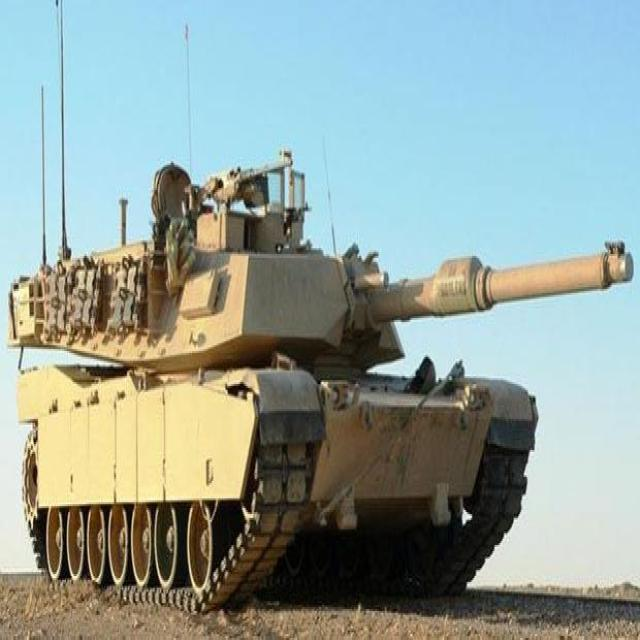Tanks: (8, 173, 530, 611)
